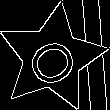O_NE: (20, 27, 85, 88)
